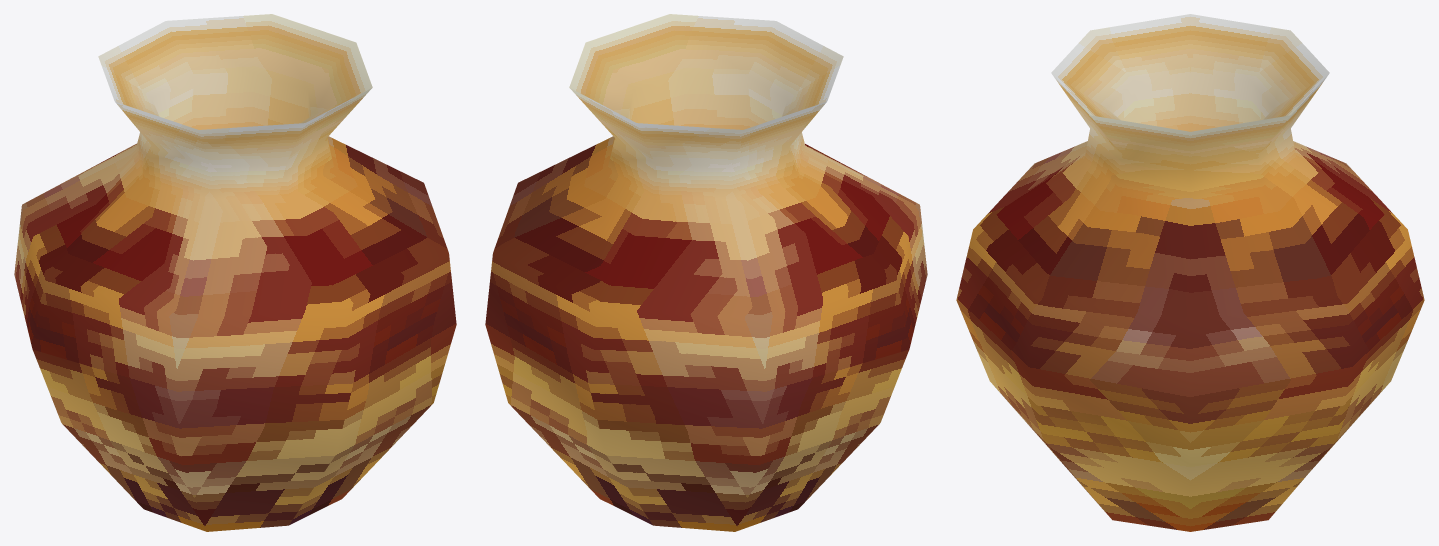
File: otubo2.glb
3 views of the same model, side by side, from view 1: azimuth 30°, elevation 25°; view 2: azimuth 150°, elevation 25°; view 3: azimuth 270°, elevation 25° (orthographic).
Visible parts, largest first — view 1: otubo2; view 2: otubo2; view 3: otubo2.
Boxes of the visible parts, left/top/right/bottom form: otubo2: left=14, top=14, right=456, bottom=531; otubo2: left=485, top=14, right=927, bottom=531; otubo2: left=956, top=14, right=1424, bottom=531.
Size of the model in its own units: 84 by 82 by 84.
Materials: 1 (1 with a texture image).
